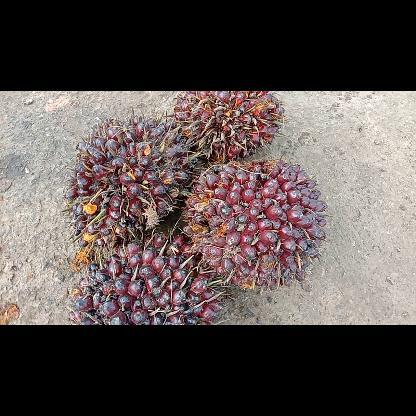Kurang masak: (61, 111, 200, 253), (70, 230, 226, 324), (170, 91, 286, 165)
TBS masak: (180, 154, 330, 294)
